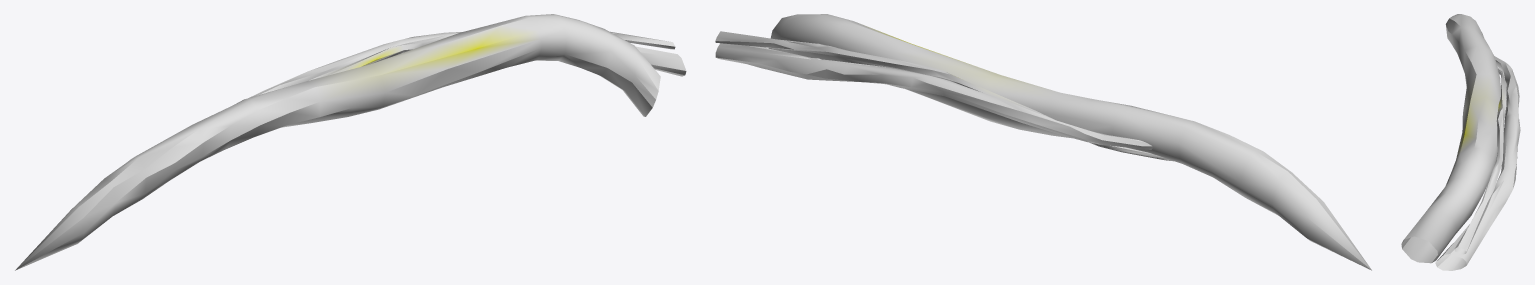
The picture shows the model from 3 angles, left to right: view 1: azimuth 30°, elevation 25°; view 2: azimuth 150°, elevation 25°; view 3: azimuth 270°, elevation 25°; orthographic projection. The views are drawn at different scales.
Parts seen in each view (by area): view 1: SM_ENV_KNFRST_BottomFallenTree_B_Lod1; view 2: SM_ENV_KNFRST_BottomFallenTree_B_Lod1; view 3: SM_ENV_KNFRST_BottomFallenTree_B_Lod1.
Part boxes in pixels (x1,y1,x2,y2): SM_ENV_KNFRST_BottomFallenTree_B_Lod1: [15, 14, 686, 270]; SM_ENV_KNFRST_BottomFallenTree_B_Lod1: [715, 14, 1371, 270]; SM_ENV_KNFRST_BottomFallenTree_B_Lod1: [1401, 14, 1520, 270].
Size of the model in its own units: 5725 by 1041 by 1060.
